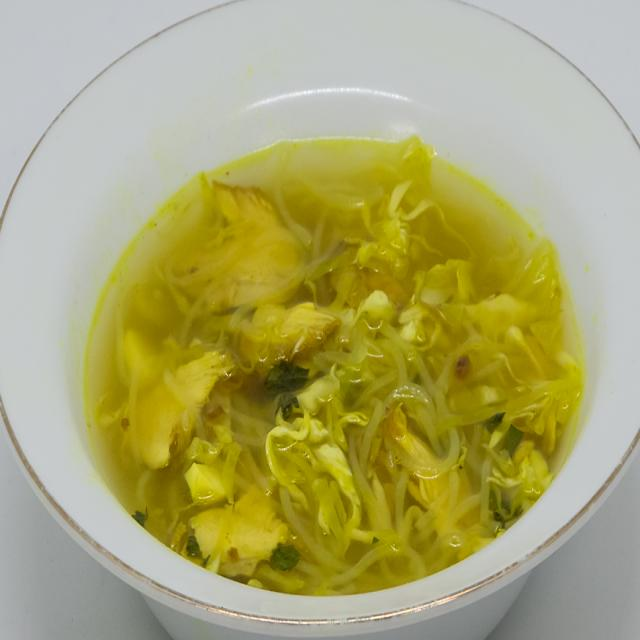Soto-Lamongan: (79, 117, 576, 611)
